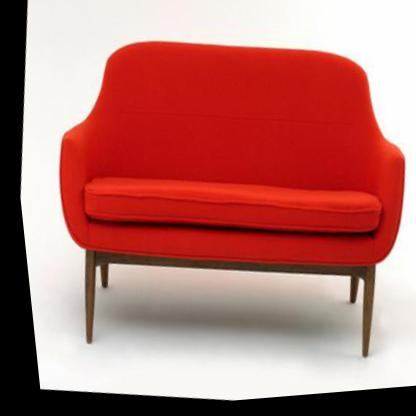Sofa: (21, 15, 416, 384)
